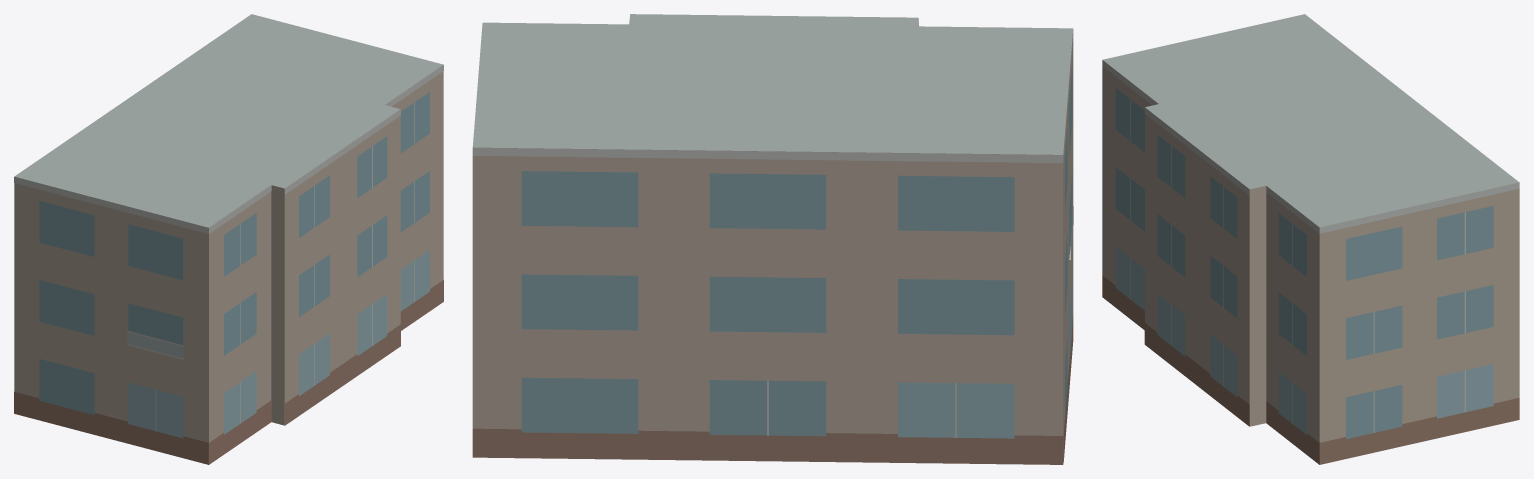
The model's file is survey-upis-32903944.glb.
The picture shows the model from 3 angles, left to right: view 1: azimuth 30°, elevation 25°; view 2: azimuth 150°, elevation 25°; view 3: azimuth 270°, elevation 25°; orthographic projection. The views are drawn at different scales.
Parts seen in each view (by area): view 1: survey-upis-32903944.tmp; view 2: survey-upis-32903944.tmp; view 3: survey-upis-32903944.tmp.
Boxes of the visible parts, box(x1,y1,x2,y2) form: survey-upis-32903944.tmp: box(14, 14, 443, 464); survey-upis-32903944.tmp: box(472, 14, 1073, 464); survey-upis-32903944.tmp: box(1102, 14, 1519, 464).
Size of the model in its own units: 17.66 by 9.15 by 14.58.
